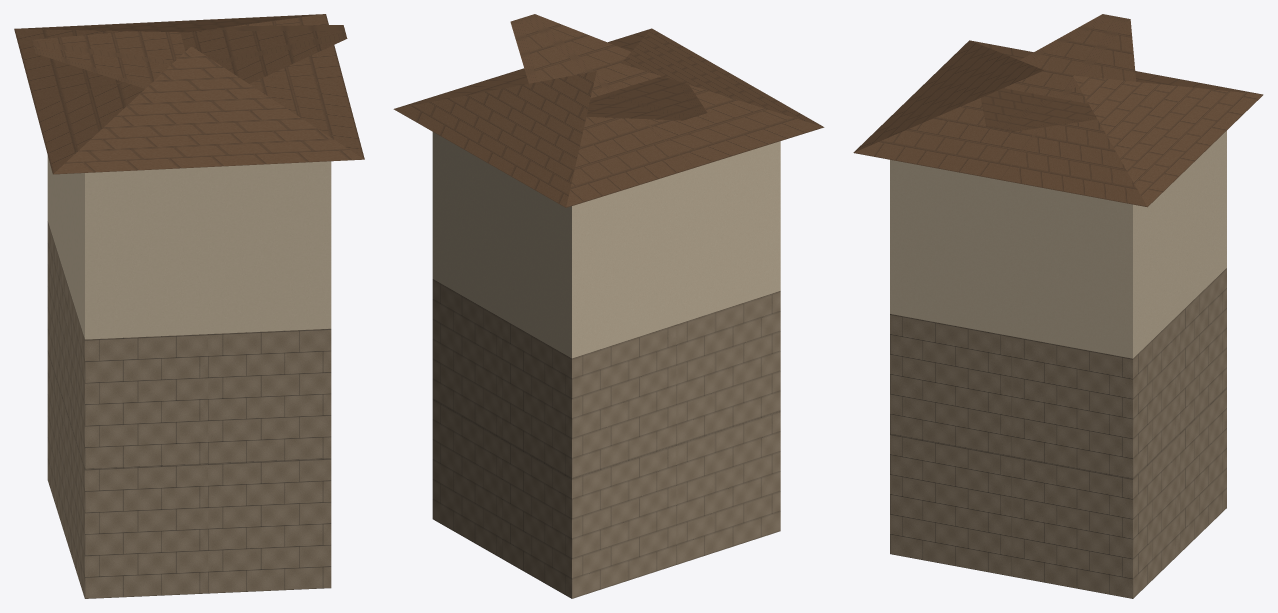
The model's file is bld_c10_7_516.gltf.
3 renders of one model, left to right at view 1: azimuth 30°, elevation 25°; view 2: azimuth 150°, elevation 25°; view 3: azimuth 270°, elevation 25°, orthographic. The views are drawn at different scales.
Parts seen in each view (by area): view 1: bld_c10_7_516; view 2: bld_c10_7_516; view 3: bld_c10_7_516.
Boxes of the visible parts, <box> form: bld_c10_7_516: <box>14,14,364,598</box>; bld_c10_7_516: <box>393,14,824,598</box>; bld_c10_7_516: <box>853,14,1263,598</box>.
Bounding box in the file's own units: 7.03 × 9 × 7.31.
3 materials, 3 textured.
